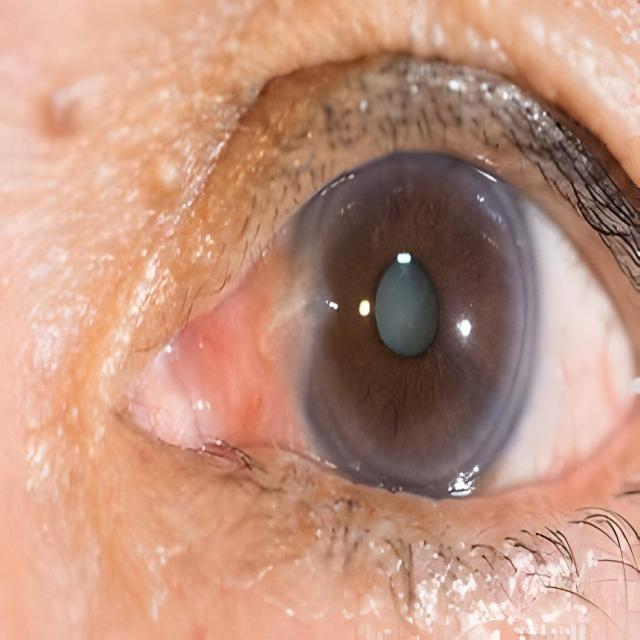Pterygium: (168, 227, 348, 447)
